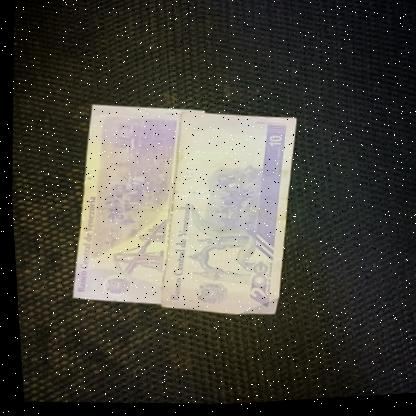ten-back-vef: (147, 107, 305, 324)
two_hundred-back-vef: (58, 99, 191, 312)
